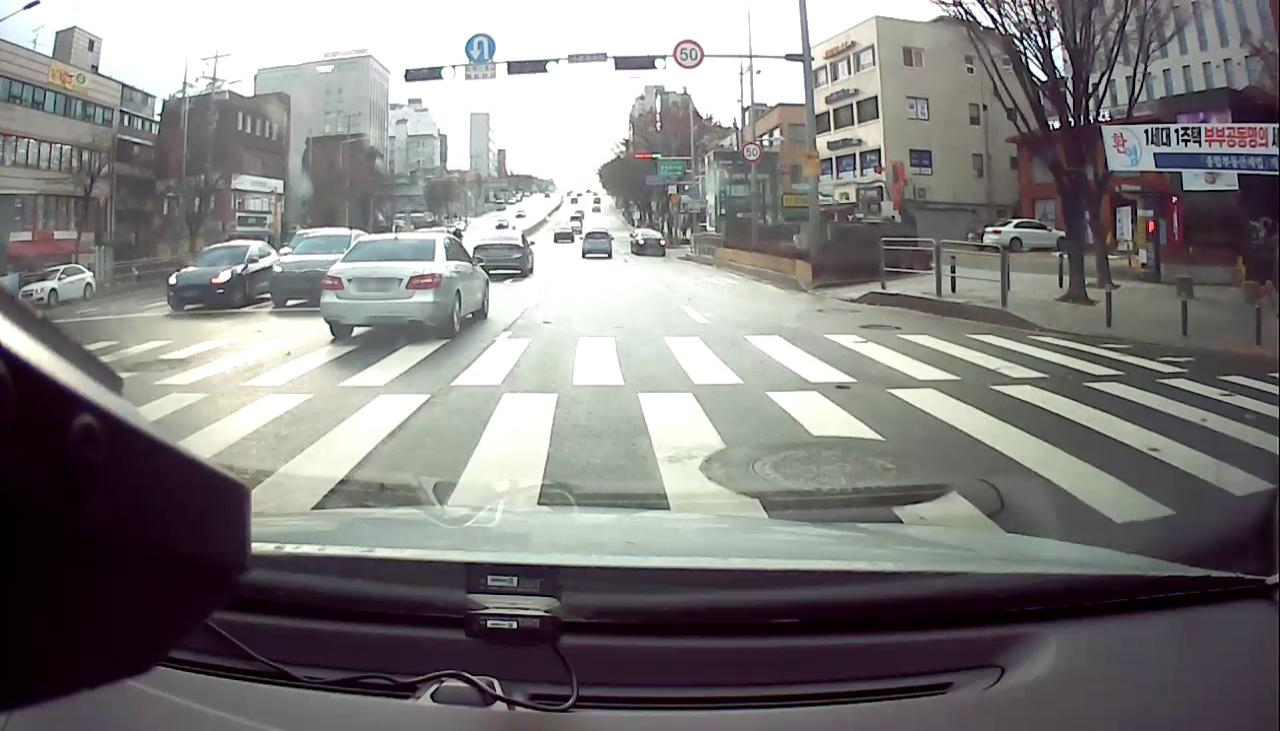Green Light: (438, 66, 456, 82), (544, 60, 560, 75), (653, 56, 667, 70)
